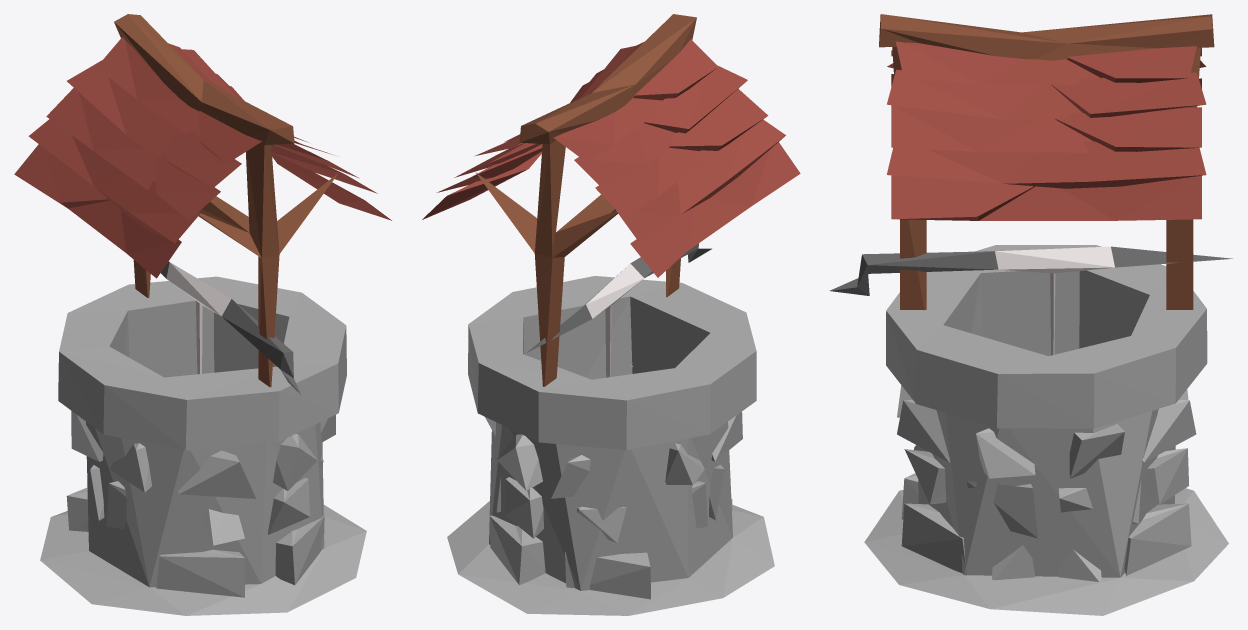
The model's file is Well.lod2.glb.
3 renders of one model, left to right at view 1: azimuth 30°, elevation 25°; view 2: azimuth 150°, elevation 25°; view 3: azimuth 270°, elevation 25°, orthographic. The views are drawn at different scales.
Visible parts, largest first — view 1: Well; view 2: Well; view 3: Well.
Part boxes in pixels (x1,y1,x2,y2): Well: [14, 14, 391, 615]; Well: [422, 14, 800, 615]; Well: [829, 14, 1232, 615].
Size of the model in its own units: 1.27 by 2.13 by 1.48.
